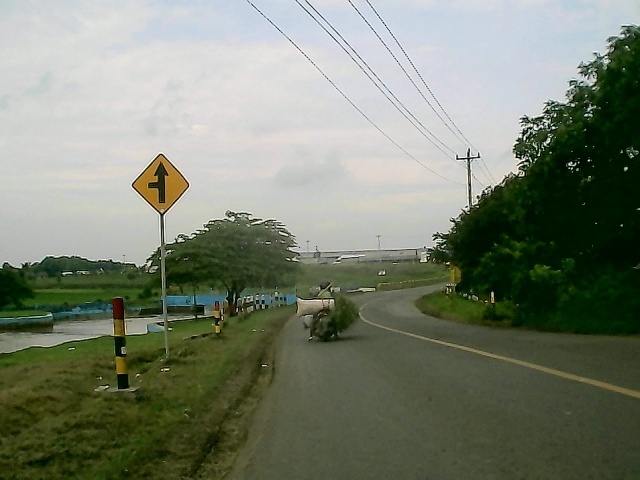Simpang kiri dengan prioritas: (129, 151, 192, 216)
